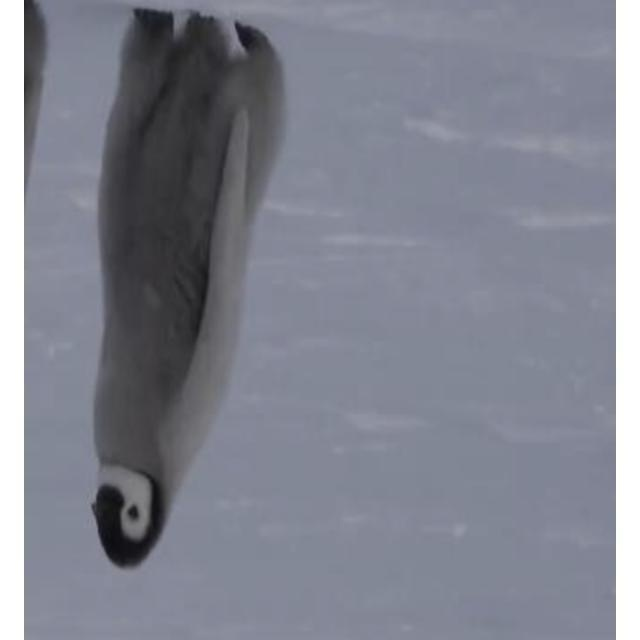penguin: (89, 6, 291, 570)
